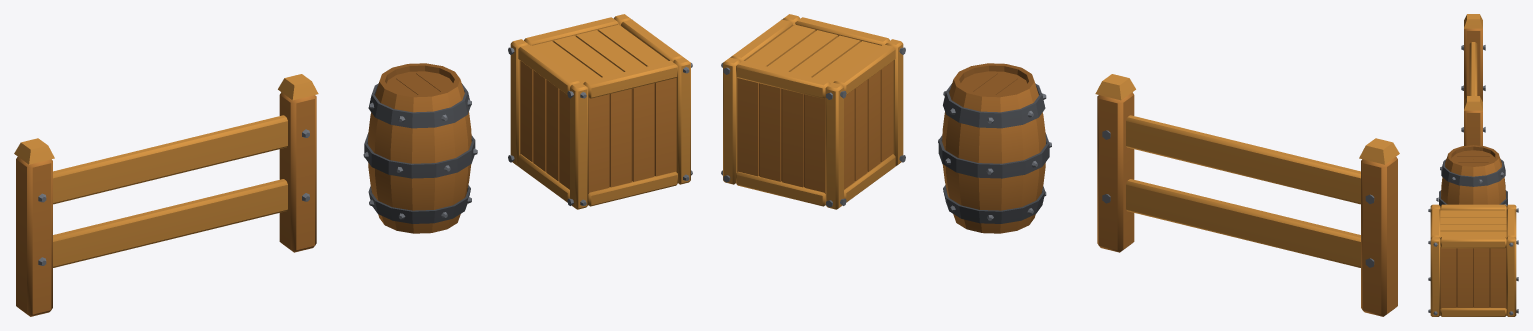
The model's file is farm_props.glb.
The picture shows the model from 3 angles, left to right: view 1: azimuth 30°, elevation 25°; view 2: azimuth 150°, elevation 25°; view 3: azimuth 270°, elevation 25°; orthographic projection. The views are drawn at different scales.
Visible parts, largest first — view 1: farm_crate, farm_fence, farm_barrel; view 2: farm_crate, farm_fence, farm_barrel; view 3: farm_crate, farm_barrel, farm_fence.
Boxes of the visible parts, bbox=[...] form: farm_crate: bbox=[508, 14, 692, 209]; farm_fence: bbox=[14, 74, 318, 316]; farm_barrel: bbox=[363, 63, 477, 233]; farm_crate: bbox=[721, 14, 905, 209]; farm_fence: bbox=[1095, 74, 1399, 316]; farm_barrel: bbox=[938, 63, 1051, 233]; farm_crate: bbox=[1428, 204, 1518, 316]; farm_barrel: bbox=[1436, 145, 1507, 205]; farm_fence: bbox=[1461, 14, 1485, 145].
Bounding box in the file's own units: 4.42 × 1.1 × 0.846.
